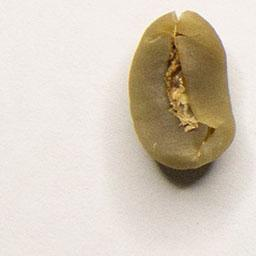premium: (124, 8, 239, 174)
